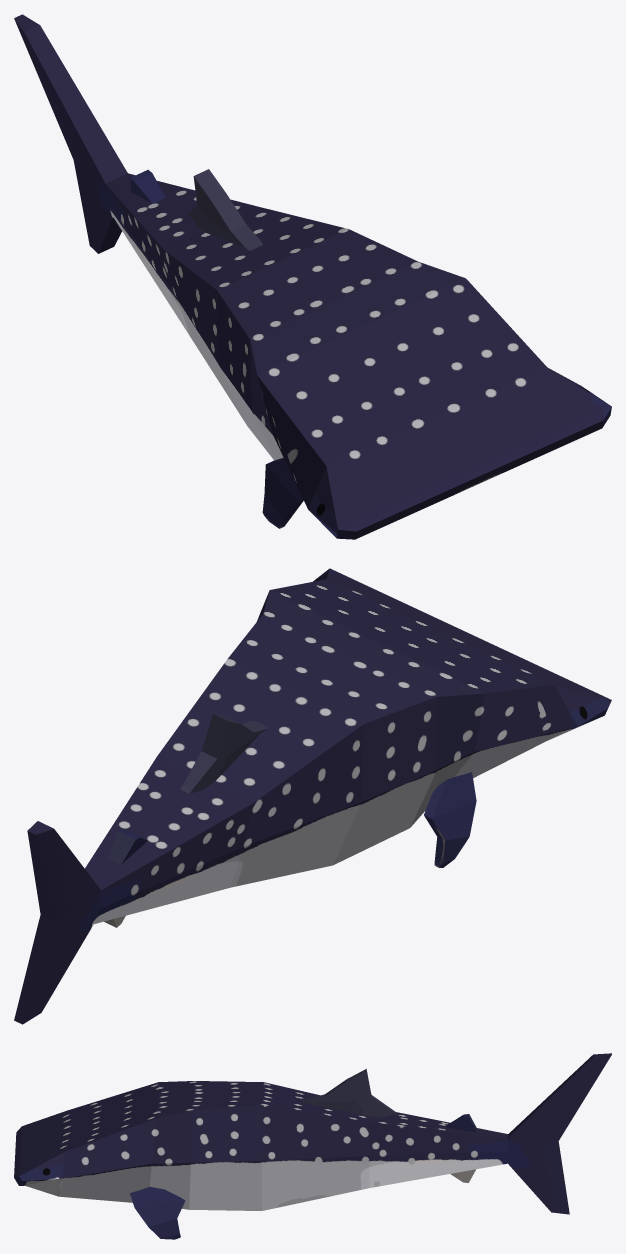
The model's file is  Whale Shark.glb.
The picture shows the model from 3 angles, top to bottom: view 1: azimuth 30°, elevation 25°; view 2: azimuth 150°, elevation 25°; view 3: azimuth 270°, elevation 25°; orthographic projection. The views are drawn at different scales.
Visible parts, largest first — view 1: Body, Fin, Swimmers, TailFin; view 2: Body, Swimmers, Fin, TailFin; view 3: Body, Fin, Swimmers, TailFin.
Boxes of the visible parts, <box> form: Body: <box>14,14,611,539</box>; Fin: <box>187,169,262,250</box>; Swimmers: <box>262,457,303,528</box>; TailFin: <box>130,169,165,203</box>; Body: <box>14,568,611,1024</box>; Swimmers: <box>424,772,476,867</box>; Fin: <box>180,714,268,793</box>; TailFin: <box>104,828,147,927</box>; Body: <box>14,1053,611,1214</box>; Fin: <box>302,1069,396,1117</box>; Swimmers: <box>130,1186,185,1239</box>; TailFin: <box>446,1114,477,1182</box>.
Bounding box in the file's own units: 1.27 × 1.11 × 3.54.
Materials: 4 (4 with a texture image).
